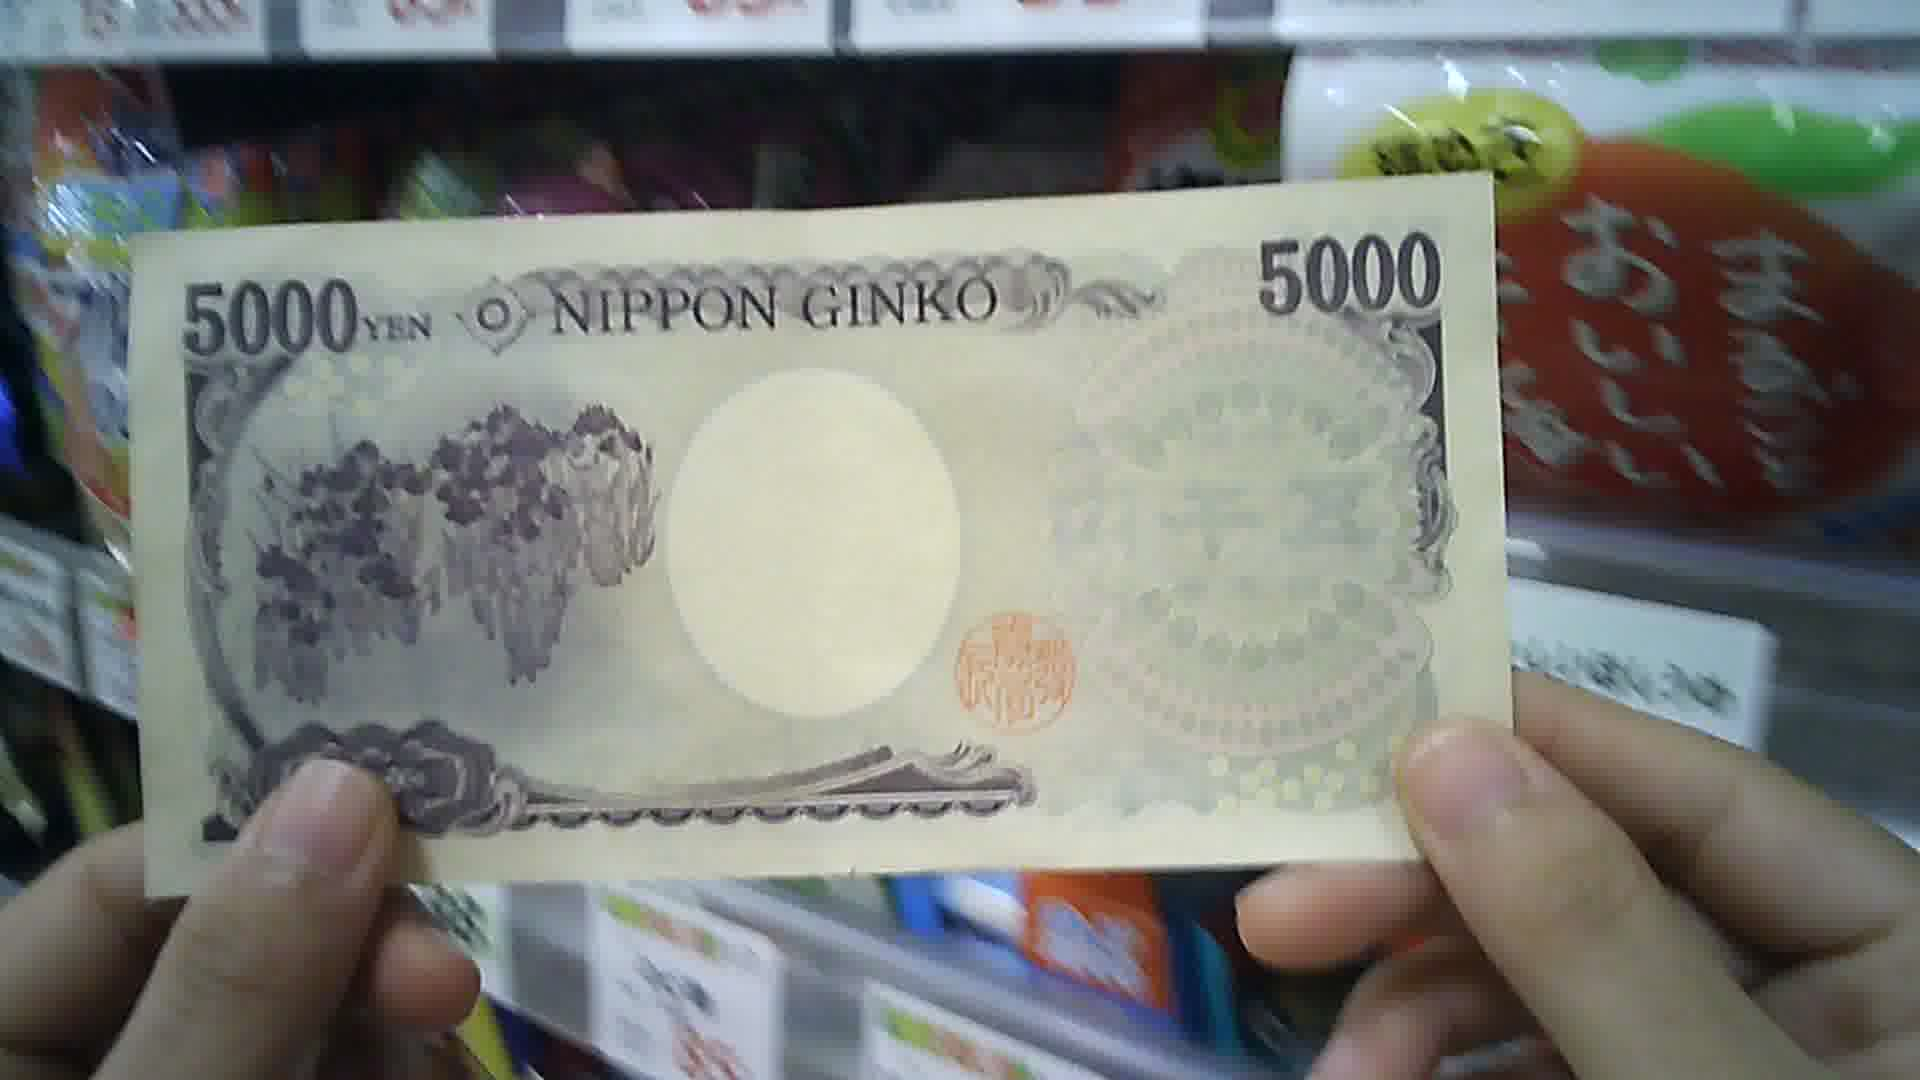5,000 Yen: (117, 174, 1534, 855)
